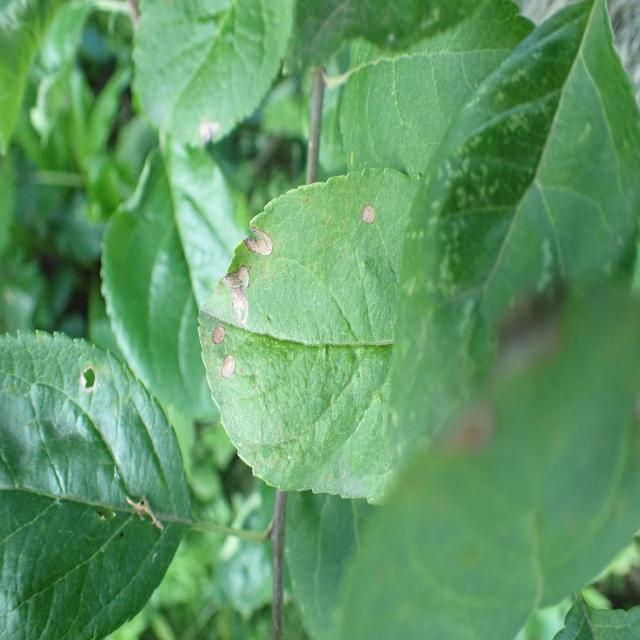frog-eye-leaf-spot: (196, 167, 422, 502)
